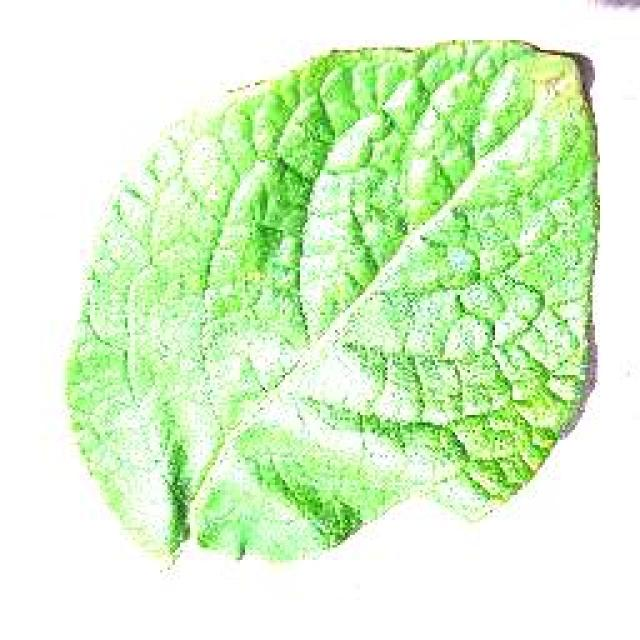Potato___healthy: (68, 37, 598, 569)
